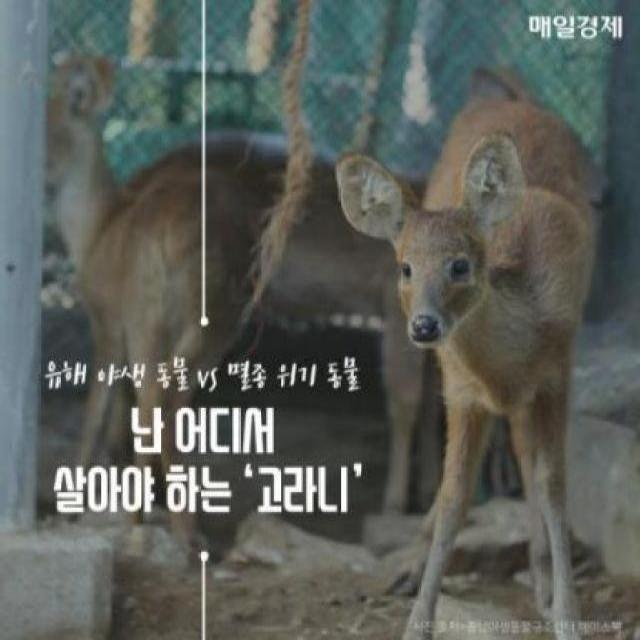deer: (334, 71, 638, 638), (22, 57, 310, 340)
